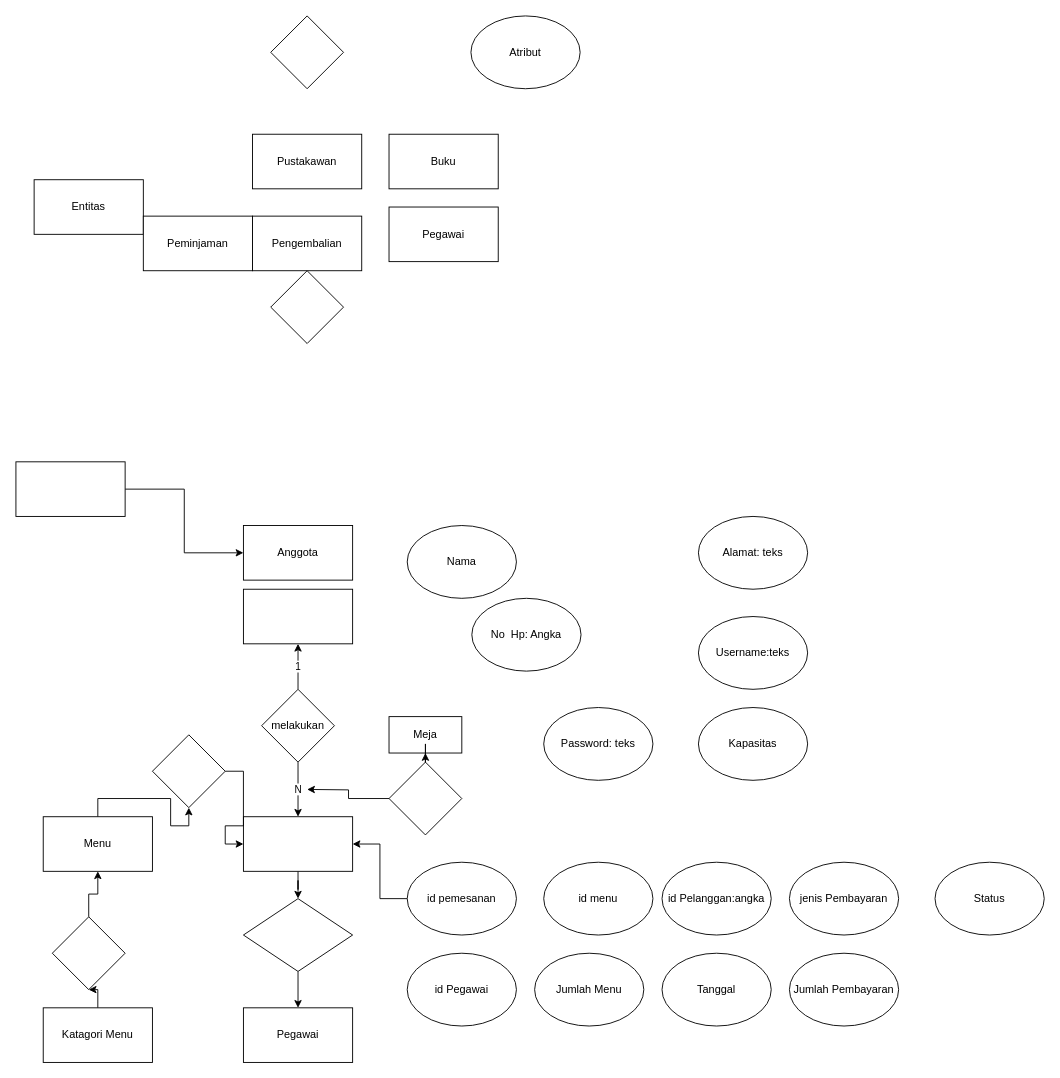
The diagram is 1060 pixels wide and 1078 high, and some of its shapes have lost their labels. Each missing label, with the centre of its shape:
"Memanajemen" belongs at [298,934].
"memesan" belongs at [188,771].
"memilih" belongs at [425,798].
"memiliki" belongs at [88,953].
"Pelanggan" belongs at [298,616].
"Pemesanan" belongs at [298,843].
"Pendaftaran anggota" belongs at [70,488].
"Relasi" belongs at [307,52].
